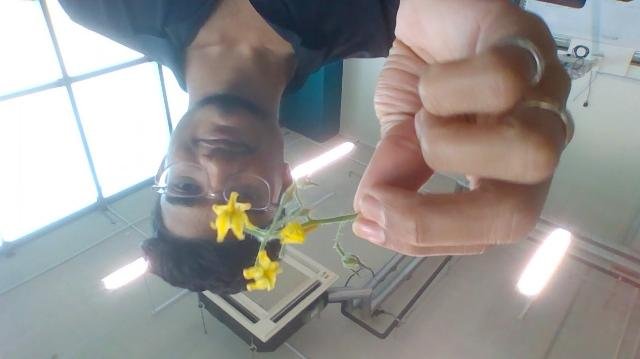Anthesis: (208, 191, 259, 245), (241, 248, 284, 295)
